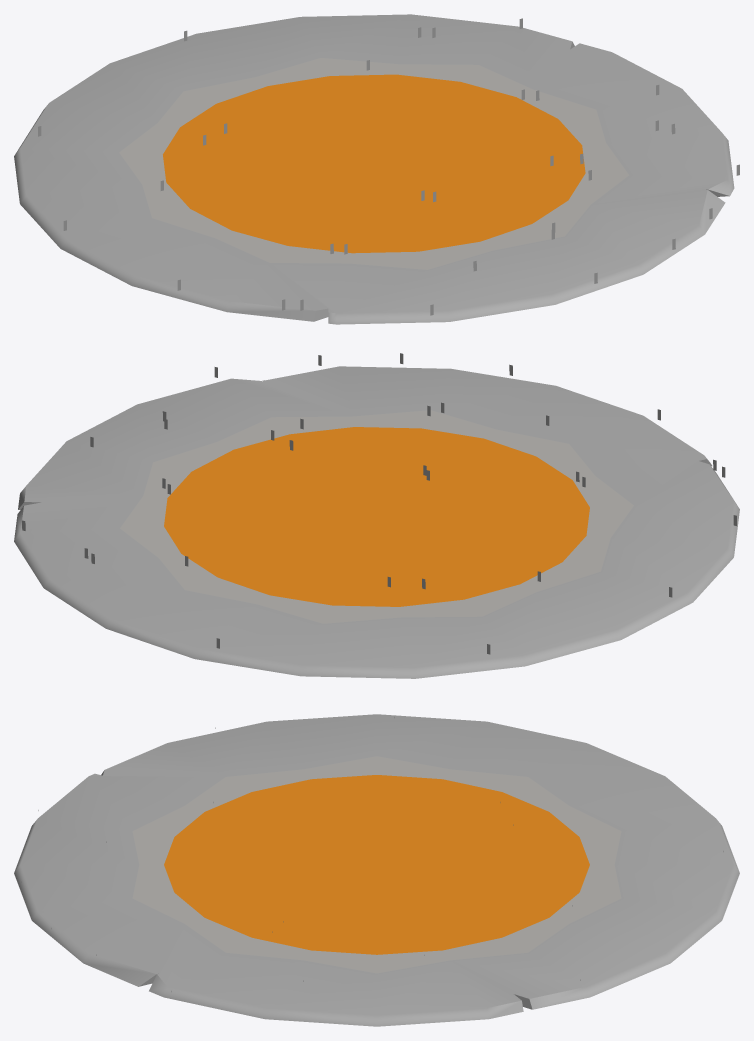
The model's file is SM_Carpet 1.fbx.
3 views of the same model, one above another, from view 1: azimuth 30°, elevation 25°; view 2: azimuth 150°, elevation 25°; view 3: azimuth 270°, elevation 25° (orthographic).
Parts seen in each view (by area): view 1: polySurface57; view 2: polySurface57; view 3: polySurface57.
Boxes of the visible parts, bbox=[...] form: polySurface57: bbox=[14, 14, 739, 324]; polySurface57: bbox=[14, 353, 739, 678]; polySurface57: bbox=[14, 714, 739, 1026].
Size of the model in its own units: 441 by 12.36 by 441.
